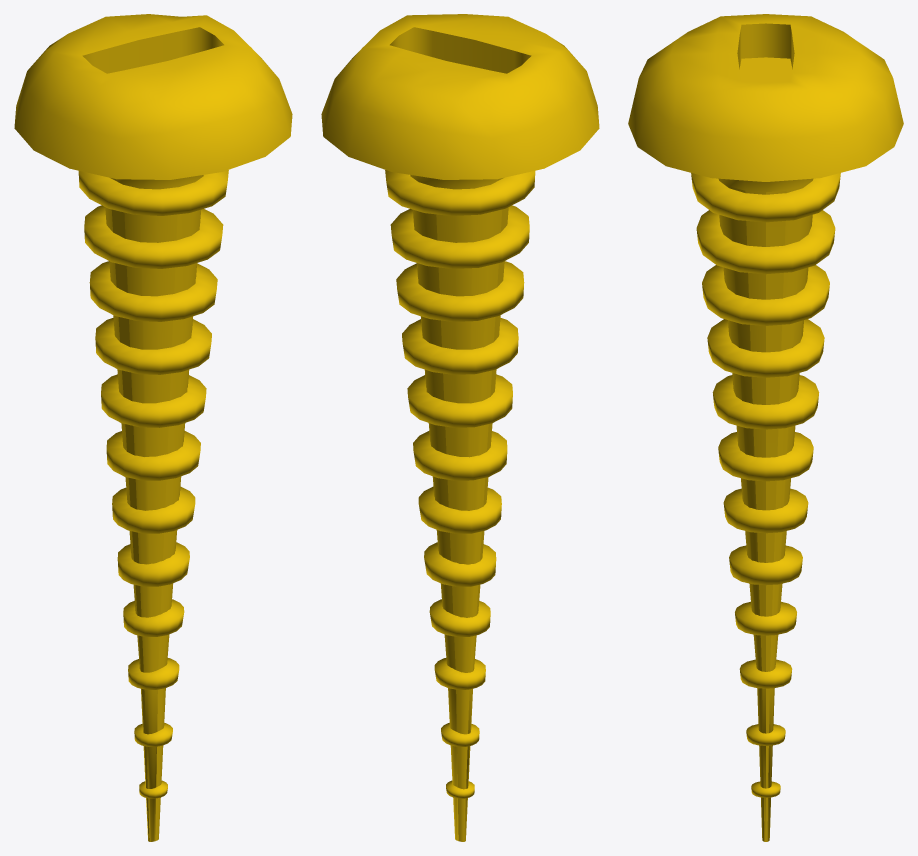
File: Tornillo dorado.fbx
3 views of the same model, side by side, from view 1: azimuth 30°, elevation 25°; view 2: azimuth 150°, elevation 25°; view 3: azimuth 270°, elevation 25° (orthographic).
Visible parts, largest first — view 1: Cube.001; view 2: Cube.001; view 3: Cube.001.
Boxes of the visible parts, x1,y1,x2,y2 form: Cube.001: (14, 14, 292, 841); Cube.001: (321, 14, 599, 841); Cube.001: (628, 14, 903, 841).
Size of the model in its own units: 168 by 529 by 168.
